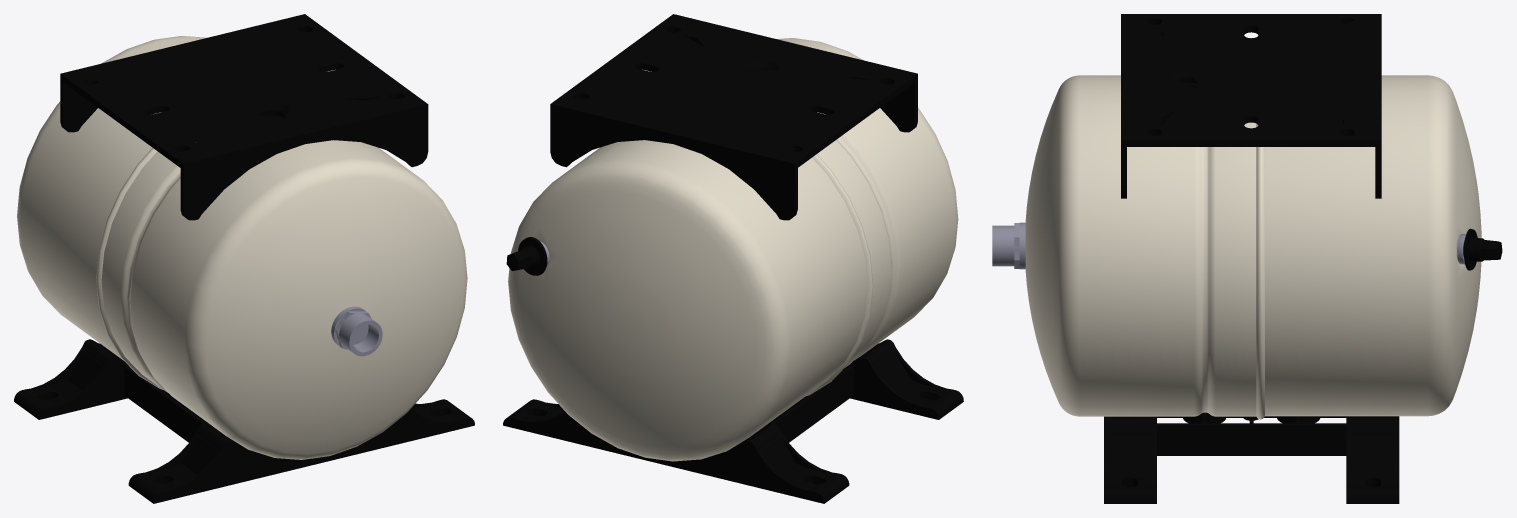
File: 24lt-sabit-yatay-tank.fbx
The picture shows the model from 3 angles, left to right: view 1: azimuth 30°, elevation 25°; view 2: azimuth 150°, elevation 25°; view 3: azimuth 270°, elevation 25°; orthographic projection. The views are drawn at different scales.
Visible parts, largest first — view 1: 24lt-sabit-yatay-tank.005, 24lt-sabit-yatay-tank, 24lt-sabit-yatay-tank.008, 24lt-sabit-yatay-tank.015, 24lt-sabit-yatay-tank.007, 24lt-sabit-yatay-tank.004; view 2: 24lt-sabit-yatay-tank.008, 24lt-sabit-yatay-tank, 24lt-sabit-yatay-tank.005, 24lt-sabit-yatay-tank.015, 24lt-sabit-yatay-tank.004, 24lt-sabit-yatay-tank.003; view 3: 24lt-sabit-yatay-tank.005, 24lt-sabit-yatay-tank.008, 24lt-sabit-yatay-tank, 24lt-sabit-yatay-tank.015, 24lt-sabit-yatay-tank.004, 24lt-sabit-yatay-tank.007, 24lt-sabit-yatay-tank.003.
Boxes of the visible parts, left/top/right/bottom form: 24lt-sabit-yatay-tank.005: left=101, top=140, right=467, bottom=459; 24lt-sabit-yatay-tank: left=60, top=14, right=428, bottom=220; 24lt-sabit-yatay-tank.008: left=17, top=36, right=206, bottom=360; 24lt-sabit-yatay-tank.015: left=14, top=339, right=474, bottom=503; 24lt-sabit-yatay-tank.007: left=331, top=306, right=382, bottom=356; 24lt-sabit-yatay-tank.004: left=96, top=148, right=162, bottom=389; 24lt-sabit-yatay-tank.008: left=508, top=140, right=867, bottom=461; 24lt-sabit-yatay-tank: left=550, top=14, right=917, bottom=220; 24lt-sabit-yatay-tank.005: left=777, top=38, right=958, bottom=379; 24lt-sabit-yatay-tank.015: left=503, top=339, right=963, bottom=503; 24lt-sabit-yatay-tank.004: left=806, top=154, right=873, bottom=396; 24lt-sabit-yatay-tank.003: left=506, top=237, right=547, bottom=275; 24lt-sabit-yatay-tank.005: left=1025, top=75, right=1256, bottom=416; 24lt-sabit-yatay-tank.008: left=1265, top=75, right=1481, bottom=416; 24lt-sabit-yatay-tank: left=1121, top=14, right=1381, bottom=198; 24lt-sabit-yatay-tank.015: left=1104, top=412, right=1399, bottom=503; 24lt-sabit-yatay-tank.004: left=1256, top=123, right=1264, bottom=419; 24lt-sabit-yatay-tank.007: left=992, top=222, right=1025, bottom=269; 24lt-sabit-yatay-tank.003: left=1463, top=228, right=1502, bottom=270.
Bounding box in the file's own units: 1629 × 1575 × 2118.
